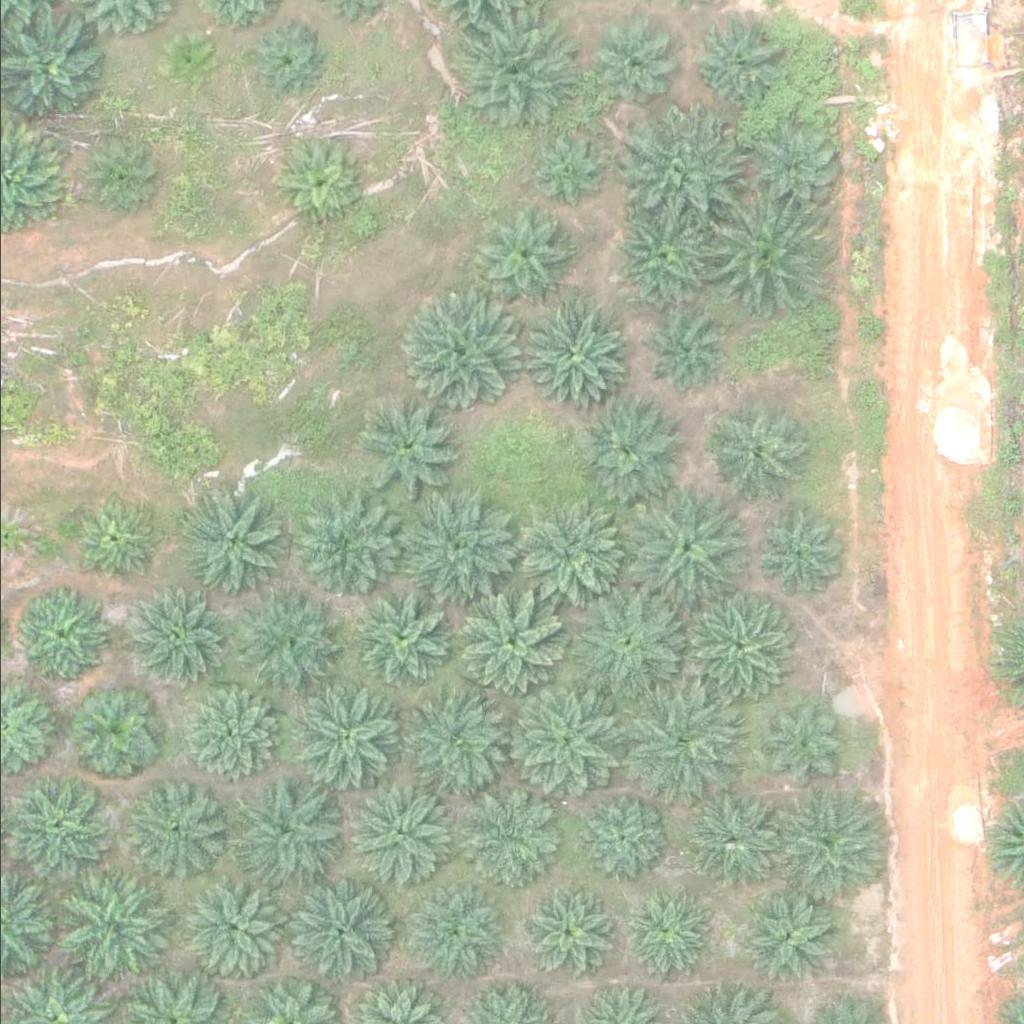Kelapa_Sawit: (504, 687, 618, 800), (171, 488, 285, 601), (399, 291, 513, 404), (450, 17, 564, 130), (340, 778, 454, 891), (283, 877, 396, 990), (620, 687, 733, 800), (286, 688, 399, 801), (450, 585, 563, 698), (679, 585, 792, 698), (509, 499, 622, 612), (286, 488, 399, 601), (49, 870, 162, 983), (400, 687, 514, 799), (572, 584, 686, 696), (777, 787, 891, 899), (228, 777, 342, 889), (630, 497, 743, 609), (394, 494, 507, 606), (514, 302, 627, 414), (701, 199, 814, 311), (622, 109, 735, 221), (394, 870, 507, 982), (447, 777, 560, 889), (180, 686, 281, 786), (123, 587, 224, 687), (748, 503, 849, 603), (360, 397, 461, 497), (575, 398, 676, 498), (615, 205, 716, 305), (748, 111, 849, 211), (4, 779, 105, 879), (517, 885, 618, 985), (678, 789, 779, 889), (119, 776, 220, 876), (180, 873, 281, 973), (238, 595, 338, 695), (350, 590, 450, 690), (699, 402, 799, 502), (474, 206, 574, 306), (620, 881, 720, 981), (744, 888, 844, 988), (16, 586, 104, 674), (689, 17, 778, 104), (758, 704, 846, 791), (69, 682, 157, 769), (68, 494, 156, 581), (637, 311, 725, 398), (520, 124, 608, 211), (591, 17, 679, 104), (270, 137, 358, 224), (573, 799, 661, 886), (244, 21, 320, 96), (83, 138, 158, 213), (162, 32, 212, 82)
